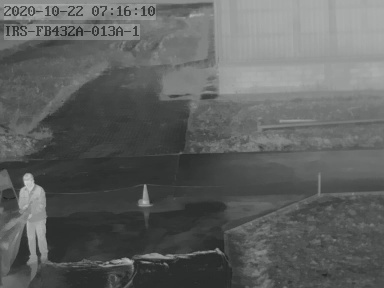person: (16, 173, 48, 265)
